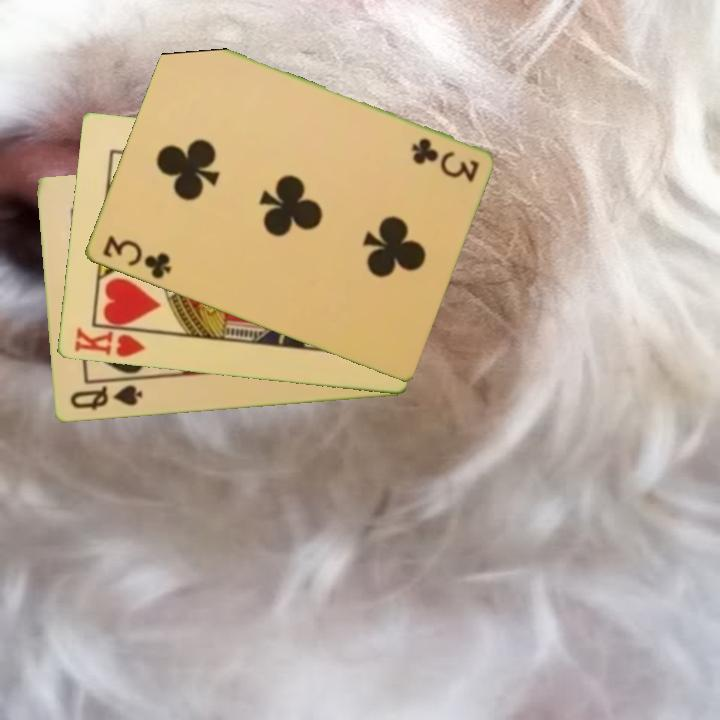3c: (98, 232, 174, 283), (407, 134, 481, 184)
Kh: (70, 323, 153, 361)
Qs: (66, 382, 145, 414)
